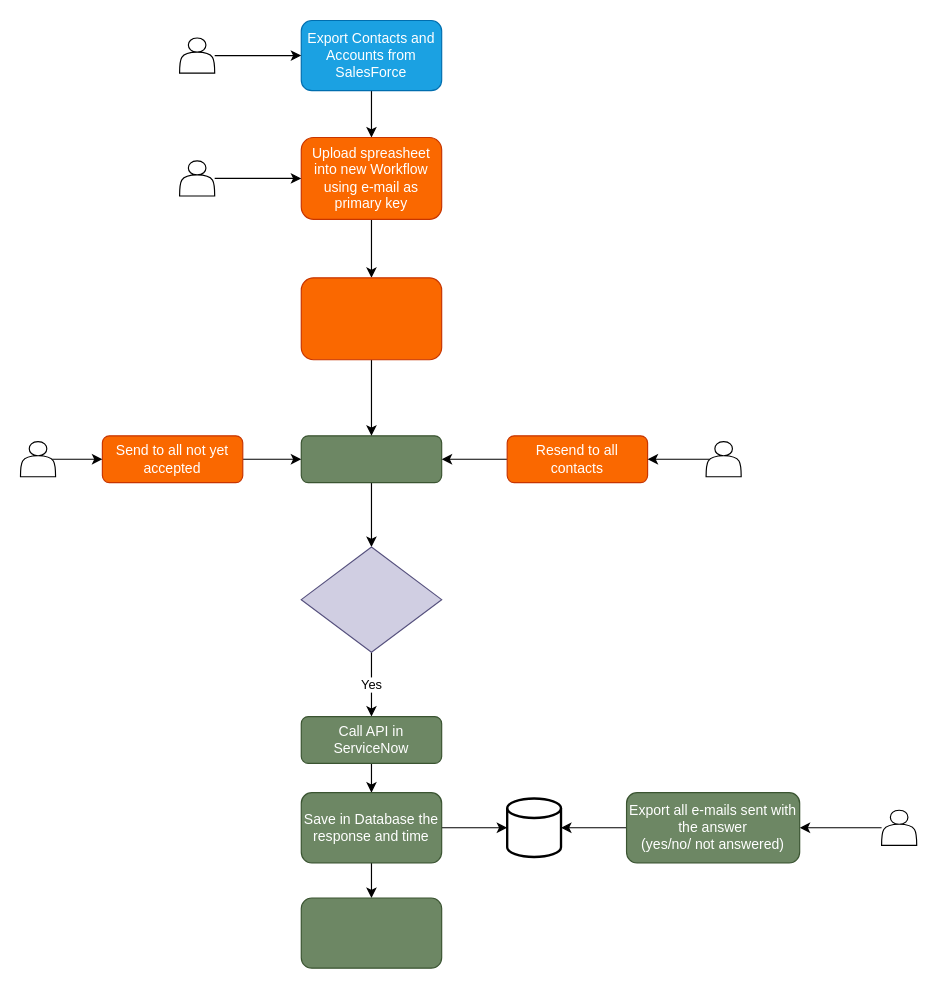
This 937x989 diagram has some shape labels left out. Each missing label, with the centre of its shape:
"Call SalesForce API to save the answer" goes at pixel 371 932.
"Contact clicks accept/reject" goes at pixel 371 599.
"Send E-mail" goes at pixel 371 459.
"Send e-mails to all not yet sent" goes at pixel 371 318.
